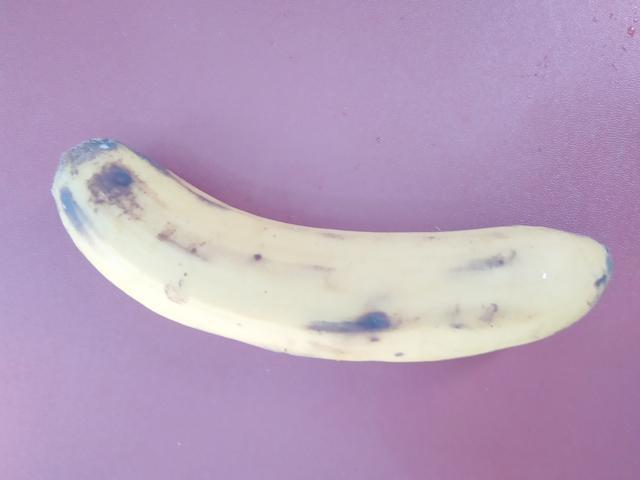ripe: (33, 124, 623, 398)
